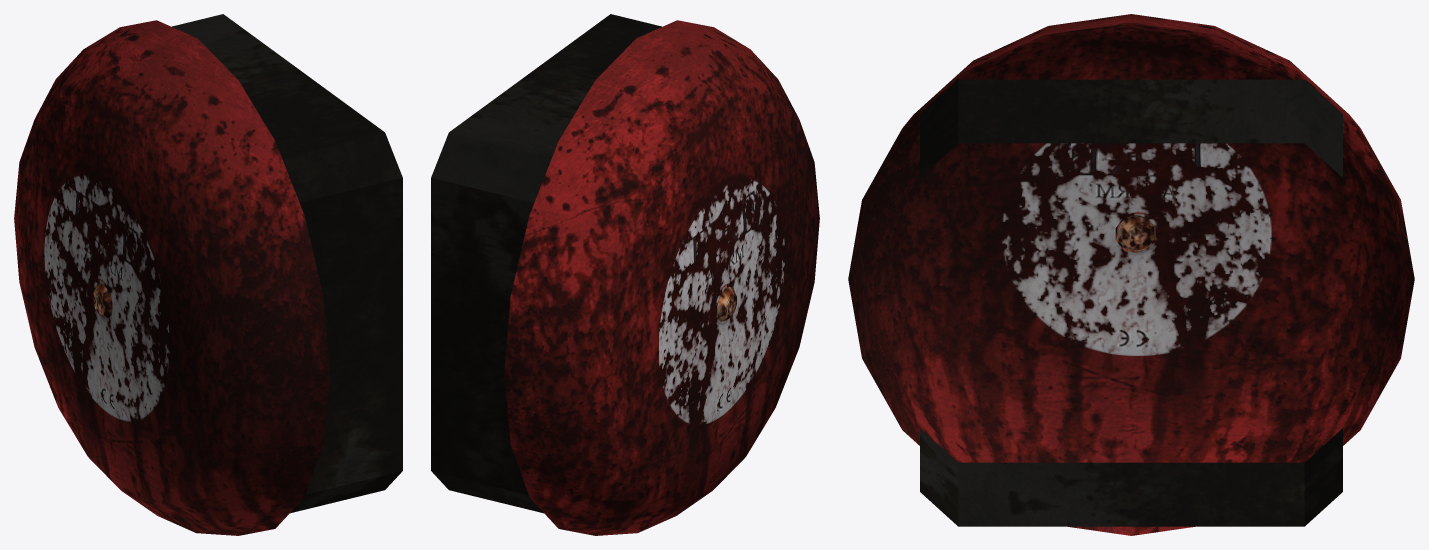
The model's file is AlarmBell.fbx.
The picture shows the model from 3 angles, left to right: view 1: azimuth 30°, elevation 25°; view 2: azimuth 150°, elevation 25°; view 3: azimuth 270°, elevation 25°; orthographic projection. The views are drawn at different scales.
Parts seen in each view (by area): view 1: AlarmBell; view 2: AlarmBell; view 3: AlarmBell.
Part boxes in pixels (x1,y1,x2,y2): AlarmBell: (14, 14, 402, 535); AlarmBell: (431, 14, 819, 535); AlarmBell: (848, 14, 1414, 535).
Bounding box in the file's own units: 0.1079 × 0.2437 × 0.2437.
